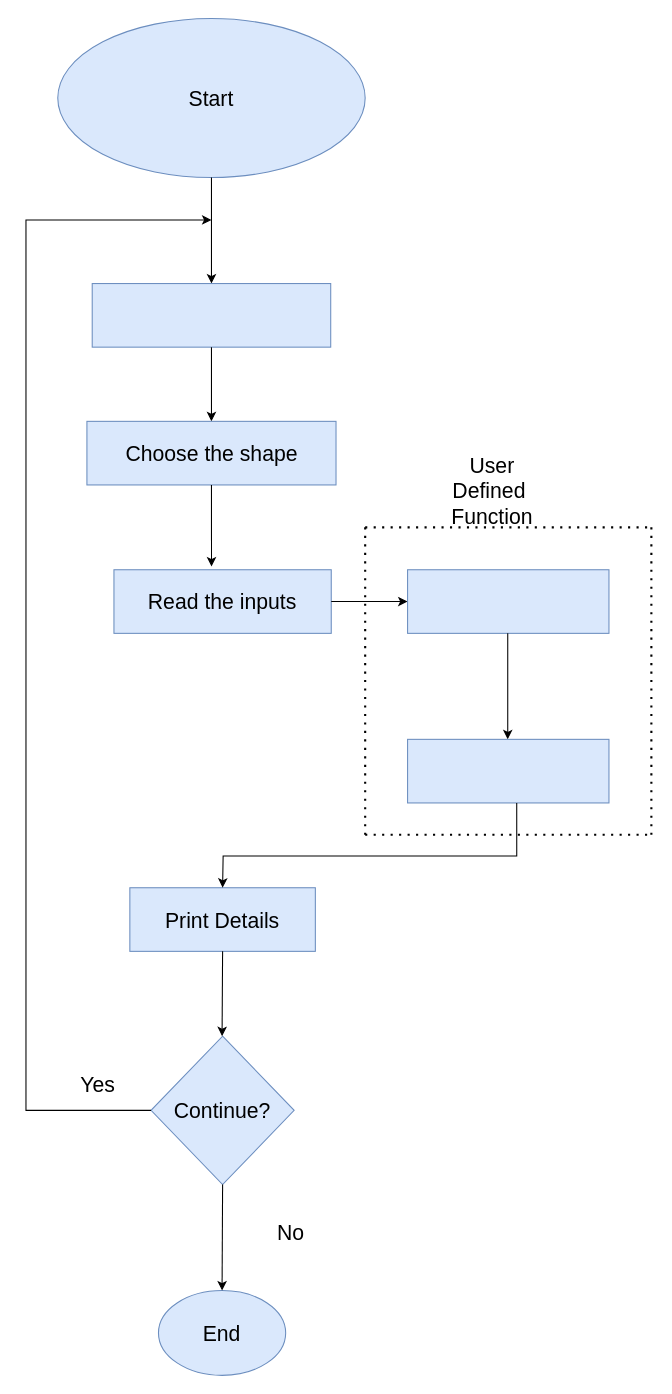
The diagram is 672 pixels wide and 1394 high, and some of its shapes have lost their labels. The shapes that lost their labels are listed below. From the top down, each one's centre as x and y in pixels, then its label:
At pixel 211 314: "Print screen message".
At pixel 508 601: "calculation".
At pixel 508 770: "Return Result".
